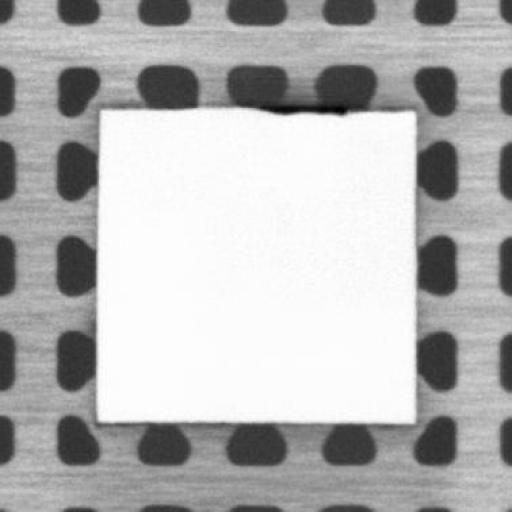DIE_BROKEN: (256, 100, 348, 116)
